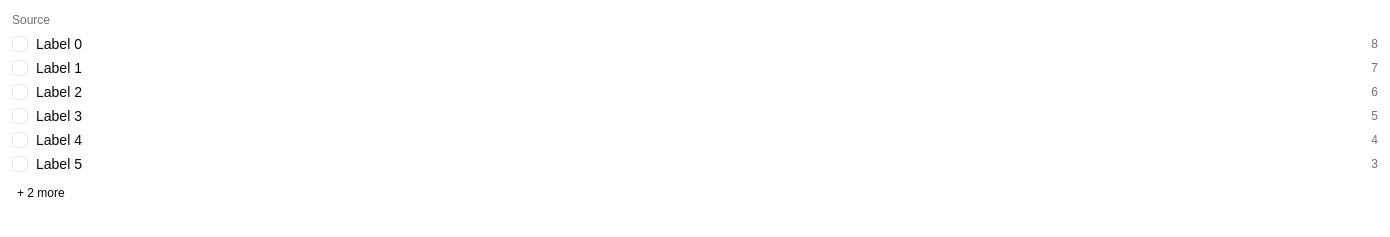
Test: FacetSection › shows the top 6 and reveals the rest via "+ N more"
Expected: the text "Label 7" is not shown
Click the button "+ 2 more": (41, 193) x1=12 y1=181 x2=70 y2=205
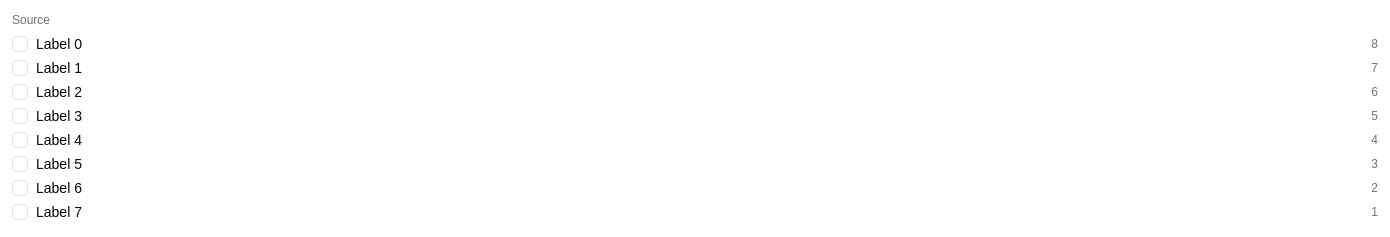
Expected: the text "Label 7" is shown, x1=36 y1=204 x2=82 y2=220
